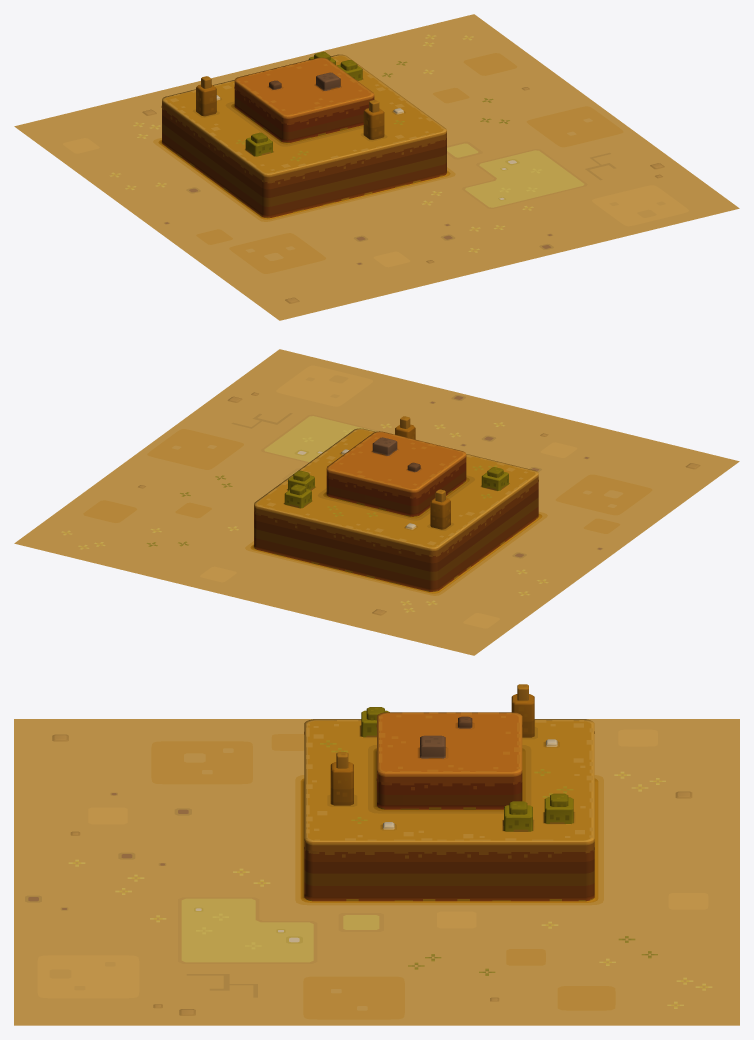
File: C_mountain1_02.fbx
3 renders of one model, top to bottom at view 1: azimuth 30°, elevation 25°; view 2: azimuth 150°, elevation 25°; view 3: azimuth 270°, elevation 25°, orthographic. The views are drawn at different scales.
Visible parts, largest first — view 1: C_mountain1_02; view 2: C_mountain1_02; view 3: C_mountain1_02.
Part boxes in pixels (bbox=[...]): C_mountain1_02: bbox=[14, 14, 739, 320]; C_mountain1_02: bbox=[14, 349, 739, 655]; C_mountain1_02: bbox=[14, 684, 739, 1025].
Bounding box in the file's own units: 50 × 8.59 × 50.
